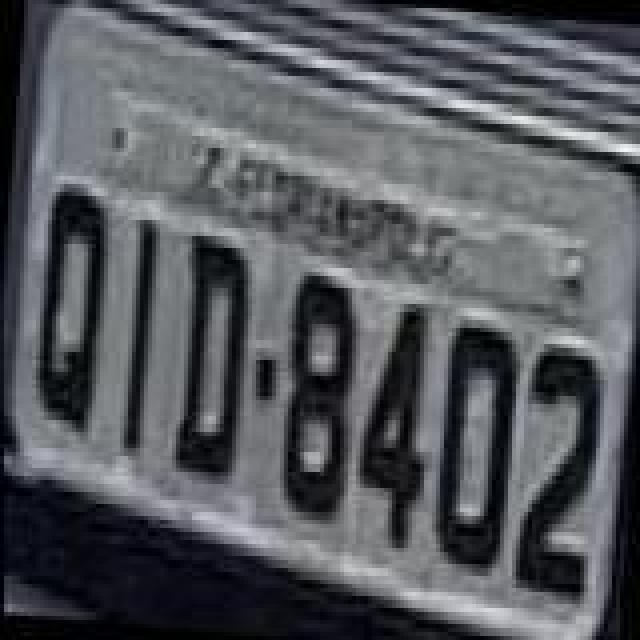1: (112, 214, 164, 458)
2: (506, 340, 610, 604)
4: (346, 296, 442, 552)
8: (270, 268, 366, 524)
D: (164, 232, 256, 488)
O: (426, 318, 522, 578)
Q: (28, 182, 120, 442)
